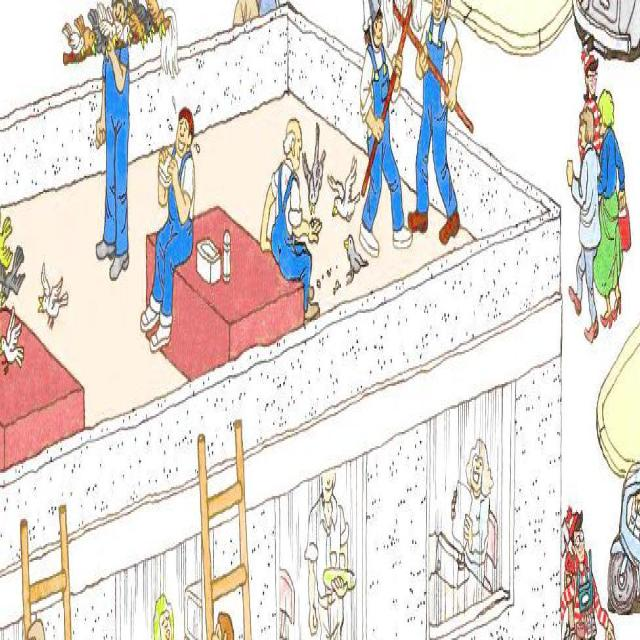waldo: (566, 505, 585, 562)
